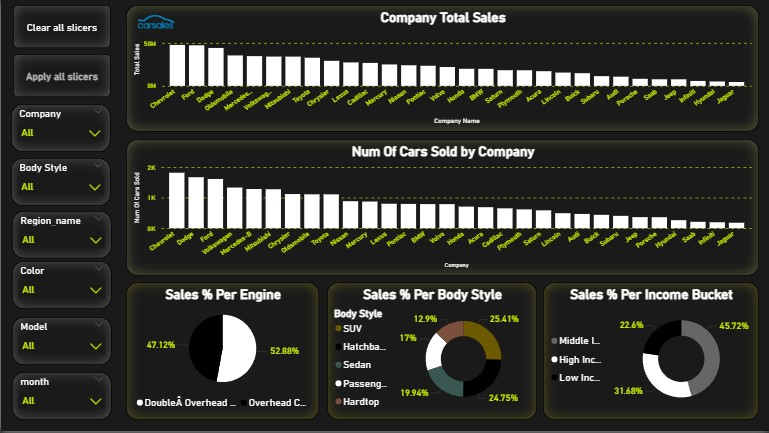

What the dashboard file says about the page in this screenshot:
{"tool":"powerbi","page":{"name":"Preformance","canvas":[1280,720],"ordinal":2},"visuals":[{"type":"columnChart","title":"Company Total Sales","fields":{"Category":["car_dim.Company"],"Y":["Sum(sales_fact.Price ($))"]},"box":[207.7,9.2,1055.4,210.8],"z":0},{"type":"donutChart","title":"Sales % Per Income Bucket","fields":{"Category":["customer_dim.Income Bucket"],"Y":["Sum(sales_fact.Price ($))"]},"box":[904,472,360,230],"z":1000},{"type":"pieChart","title":"Sales % Per Engine","fields":{"Category":["car_dim.Engine"],"Y":["Sum(sales_fact.Price ($))"]},"box":[208,472,322,230],"z":2000},{"type":"donutChart","title":"Sales % Per Body Style","fields":{"Category":["car_dim.Body Style"],"Y":["Sum(sales_fact.Price ($))"]},"box":[544,472,350,230],"z":3000},{"type":"columnChart","fields":{"Category":["car_dim.Company Hierarchy.Company"],"Y":["sales_fact.Total Cars Sold"]},"box":[207.7,233.8,1055.4,227.7],"z":4000},{"type":"slicer","title":"Company","fields":{"Values":["car_dim.Company"]},"box":[17.2,174.9,166.3,80.2],"z":5000},{"type":"slicer","fields":{"Values":["car_dim.Color"]},"box":[17.7,437.4,166,80.2],"z":6000},{"type":"slicer","fields":{"Values":["car_dim.Body Style"]},"box":[17.2,264.4,166.3,80.2],"z":7000},{"type":"slicer","fields":{"Values":["car_dim.Model"]},"box":[18.8,529.3,166,80.2],"z":8000},{"type":"slicer","fields":{"Values":["region_dim.Region_name"]},"box":[18.8,352.6,166,79.1],"z":9000},{"type":"actionButton","box":[20,92.3,163.1,72.3],"z":10000},{"type":"actionButton","box":[20,9.2,163.1,72.3],"z":11000},{"type":"image","box":[223.3,0,70.9,75.6],"z":12000},{"type":"slicer","fields":{"Values":["Date_dim.month"]},"box":[17.7,622.3,166.3,80.2],"z":13000}]}

Visuals, with their boxes in screenshot pixels (x1, y1, x2, y2), scaled from the page's 1280x720 canvas onto the 769x433 screenshot:
"Company Total Sales" columnChart: locate(125, 6, 759, 132)
"Sales % Per Income Bucket" donutChart: locate(543, 284, 759, 422)
"Sales % Per Engine" pieChart: locate(125, 284, 318, 422)
"Sales % Per Body Style" donutChart: locate(327, 284, 537, 422)
columnChart - car_dim.Company Hierarchy.Company x sales_fact.Total Cars Sold: locate(125, 141, 759, 278)
"Company" slicer: locate(10, 105, 110, 153)
slicer - car_dim.Color: locate(11, 263, 110, 311)
slicer - car_dim.Body Style: locate(10, 159, 110, 207)
slicer - car_dim.Model: locate(11, 318, 111, 367)
slicer - region_dim.Region_name: locate(11, 212, 111, 260)
actionButton: locate(12, 56, 110, 99)
actionButton: locate(12, 6, 110, 49)
image: locate(134, 0, 177, 45)
slicer - Date_dim.month: locate(11, 374, 111, 422)
